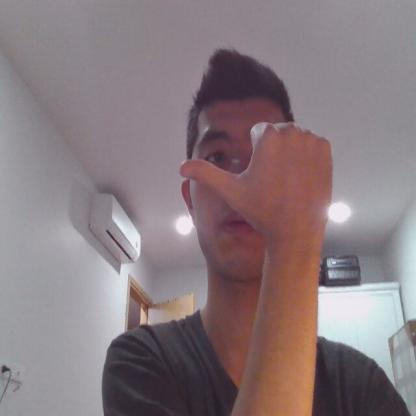right: (178, 120, 336, 254)
